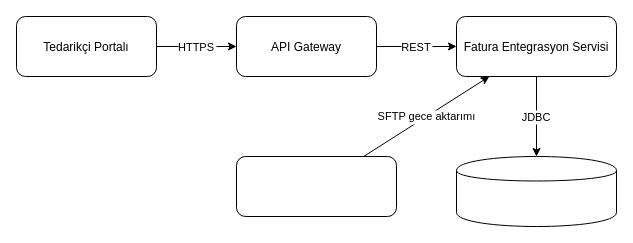
This 633x243 diagram has some shape labels left out. The centre of each missing label's shape, as x and y in pixels:
"Dosya Aktarım Sunucusu (SFTP)" belongs at (316,186).
"Fatura Veritabanı" belongs at (536,191).
